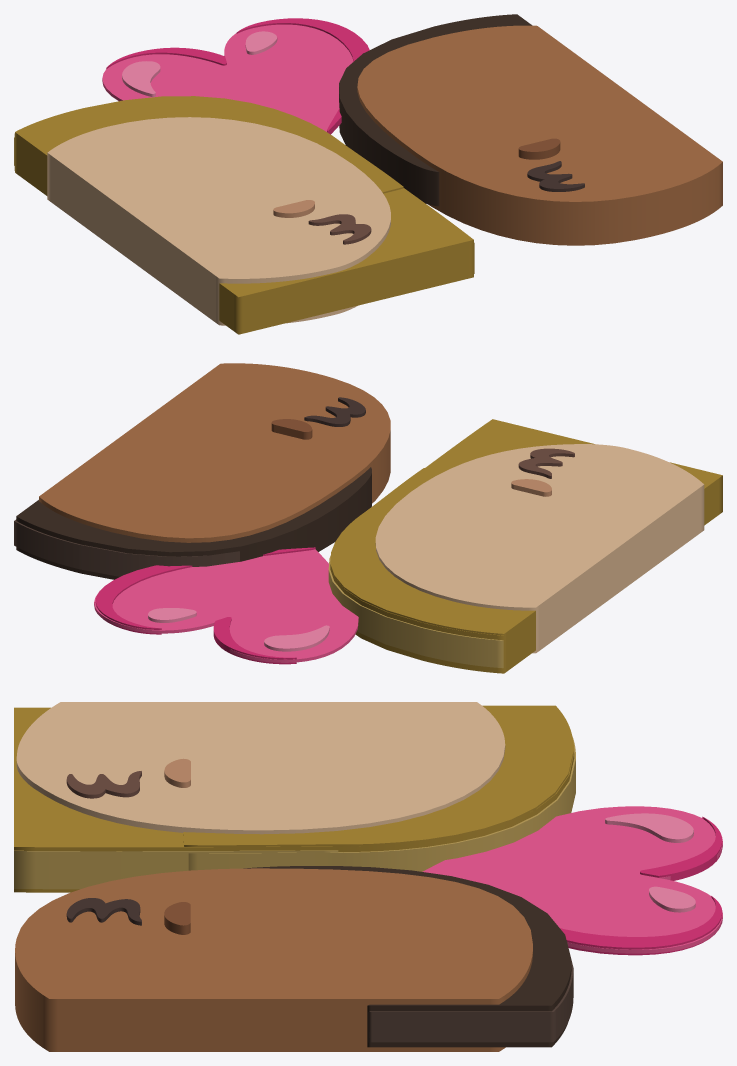
File: emoji_u1f469_1f3fc_200d_2764_200d_1f48b_200d_1f468_1f3fe.glb
3 views of the same model, one above another, from view 1: azimuth 30°, elevation 25°; view 2: azimuth 150°, elevation 25°; view 3: azimuth 270°, elevation 25° (orthographic). The views are drawn at different scales.
Visible parts, largest first — view 1: emoji_u1f469_1f3fc_200d_2764_200d_1f48b_200d_1f468_1f3fe; view 2: emoji_u1f469_1f3fc_200d_2764_200d_1f48b_200d_1f468_1f3fe; view 3: emoji_u1f469_1f3fc_200d_2764_200d_1f48b_200d_1f468_1f3fe.
Part boxes in pixels (x1=…): emoji_u1f469_1f3fc_200d_2764_200d_1f48b_200d_1f468_1f3fe: x1=14, y1=14, x2=722, y2=334; emoji_u1f469_1f3fc_200d_2764_200d_1f48b_200d_1f468_1f3fe: x1=14, y1=363, x2=722, y2=673; emoji_u1f469_1f3fc_200d_2764_200d_1f48b_200d_1f468_1f3fe: x1=14, y1=702, x2=722, y2=1051.
Bounding box in the file's own units: 0.0336 × 0.0038 × 0.0339.
